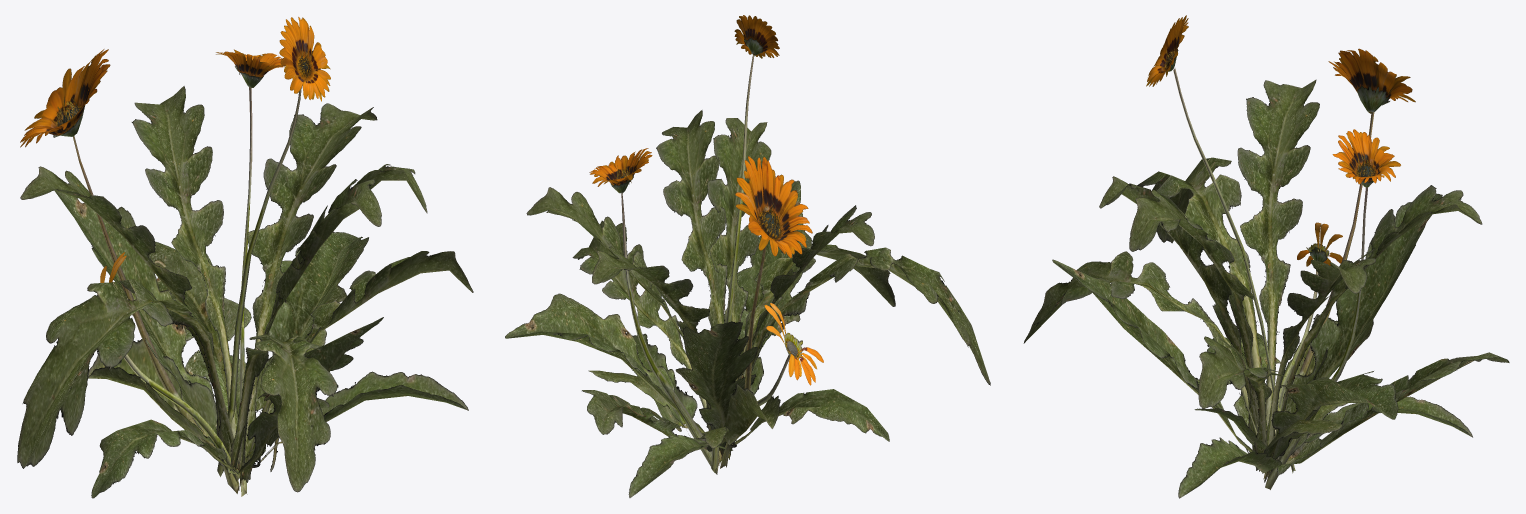
Rendered from Gazania_Bloom_h.fbx.
The picture shows the model from 3 angles, left to right: view 1: azimuth 30°, elevation 25°; view 2: azimuth 150°, elevation 25°; view 3: azimuth 270°, elevation 25°; orthographic projection. The views are drawn at different scales.
Visible parts, largest first — view 1: Gazania_Bloom_h; view 2: Gazania_Bloom_h; view 3: Gazania_Bloom_h.
Boxes of the visible parts, box(x1,y1,x2,y2) form: Gazania_Bloom_h: box(17, 17, 473, 498); Gazania_Bloom_h: box(505, 15, 990, 497); Gazania_Bloom_h: box(1023, 15, 1509, 498).
Size of the model in its own units: 0.3376 by 0.35 by 0.3262.
1 material, 1 textured.
